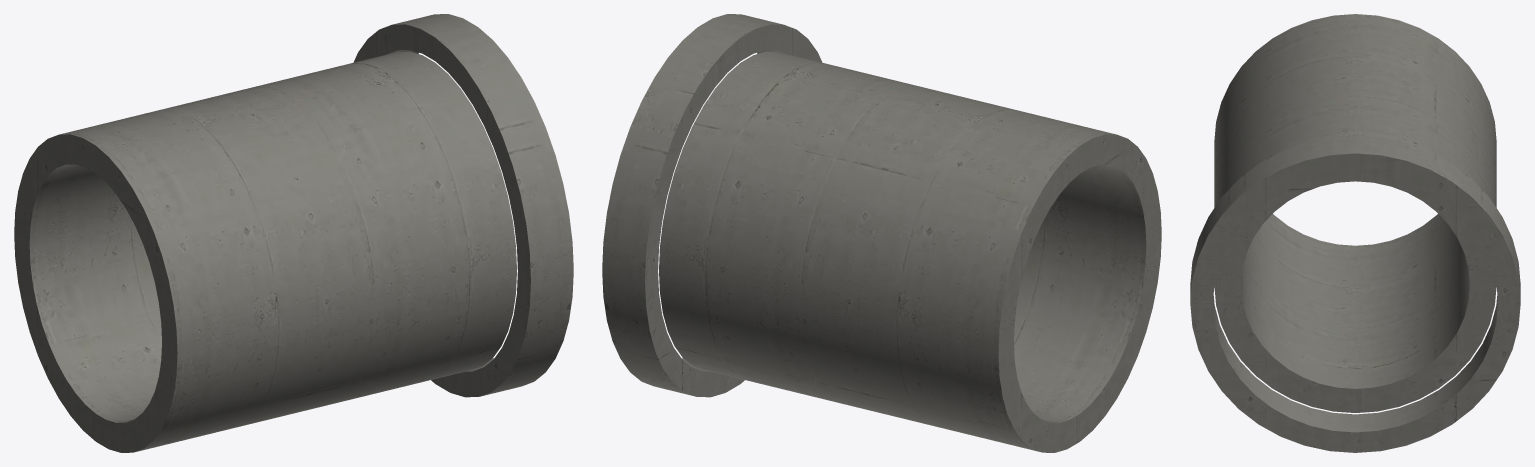
The model's file is HID-DRN-002.glb.
3 renders of one model, left to right at view 1: azimuth 30°, elevation 25°; view 2: azimuth 150°, elevation 25°; view 3: azimuth 270°, elevation 25°, orthographic. The views are drawn at different scales.
Parts seen in each view (by area): view 1: HID-DRN-002_tubo, HID-DRN-002_bolsa; view 2: HID-DRN-002_tubo, HID-DRN-002_bolsa; view 3: HID-DRN-002_tubo, HID-DRN-002_bolsa.
Part boxes in pixels (left/top/right/bottom): HID-DRN-002_tubo: left=14, top=51, right=516, bottom=452; HID-DRN-002_bolsa: left=353, top=14, right=573, bottom=397; HID-DRN-002_tubo: left=659, top=51, right=1161, bottom=452; HID-DRN-002_bolsa: left=602, top=14, right=822, bottom=397; HID-DRN-002_tubo: left=1214, top=14, right=1496, bottom=412; HID-DRN-002_bolsa: left=1190, top=135, right=1520, bottom=452.
Bounding box in the file's own units: 1 × 0.866 × 0.866.
Materials: 1 (1 with a texture image).
